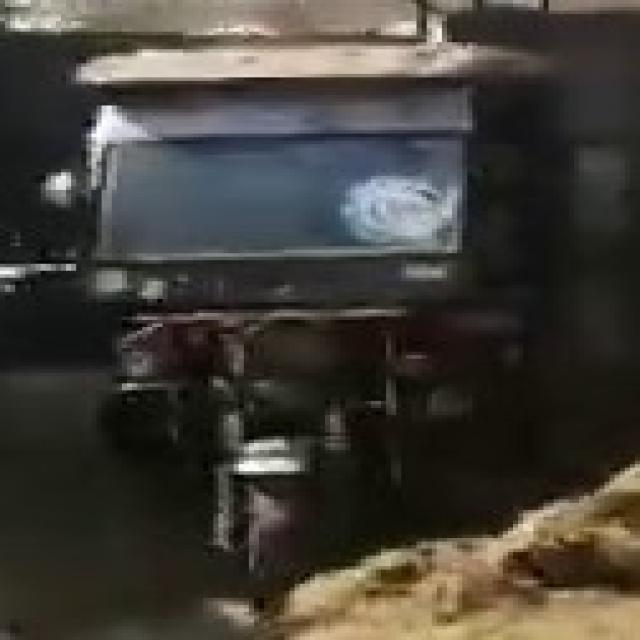toto: (97, 32, 589, 608)
